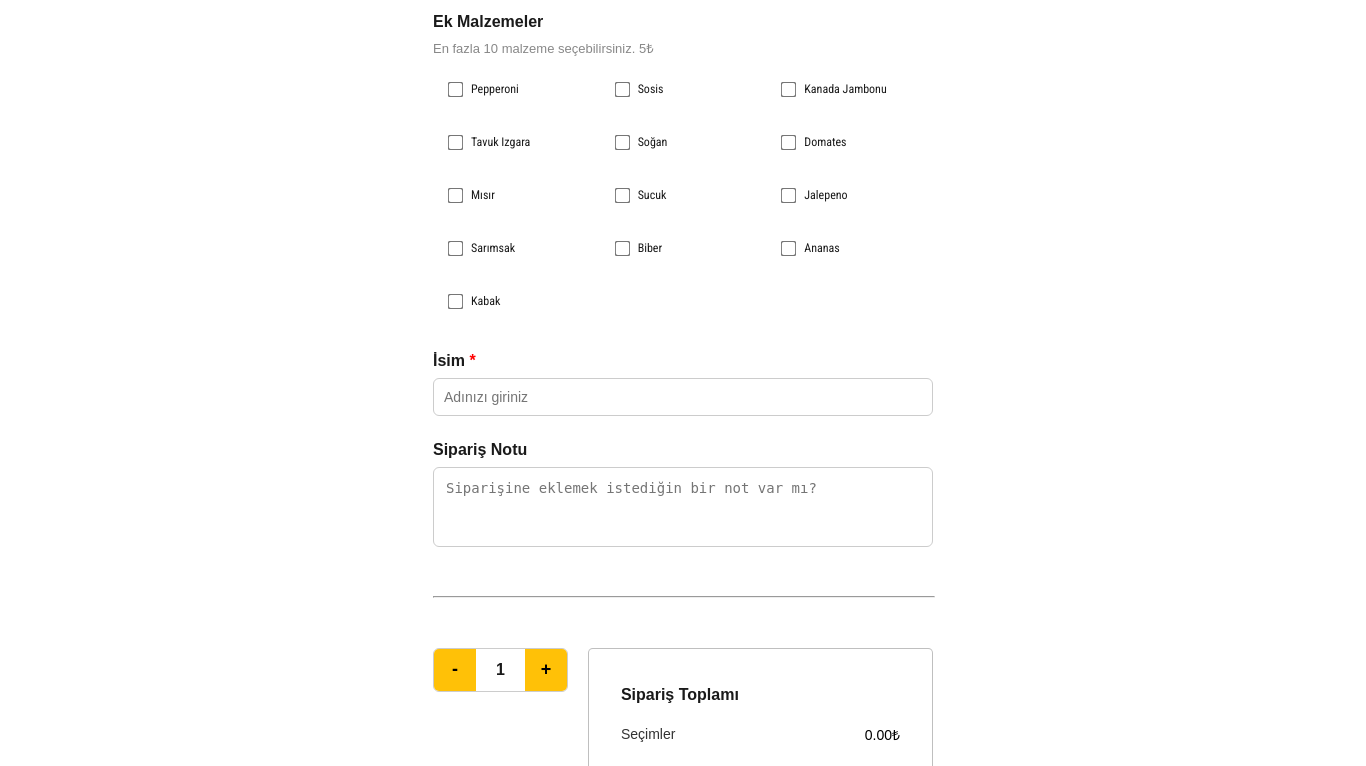
Form Validasyon Testleri › En az 4 malzeme seçilmezse hata verir
(page scrolled)
Type "Ali" into the element with test id "data-name". click: (683, 384)
box: [433, 352, 933, 416]
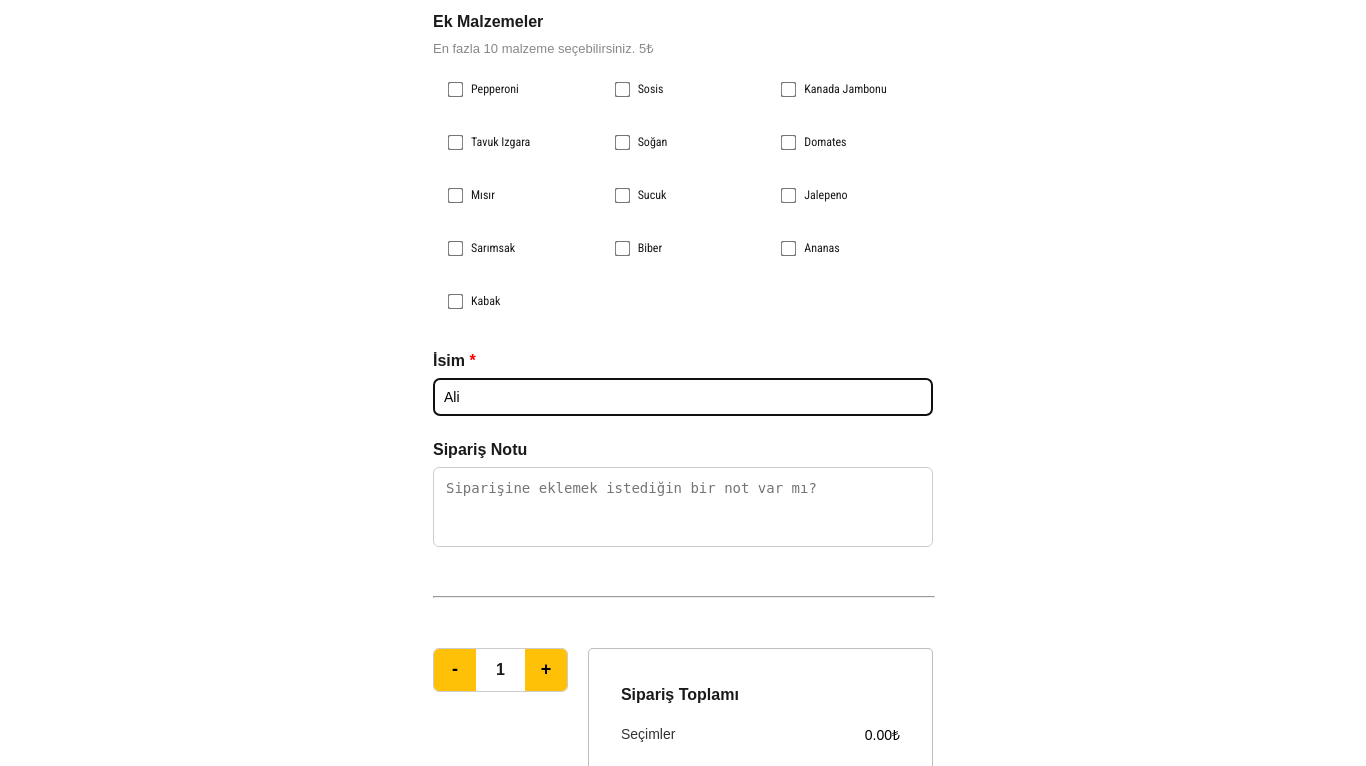
Scroll
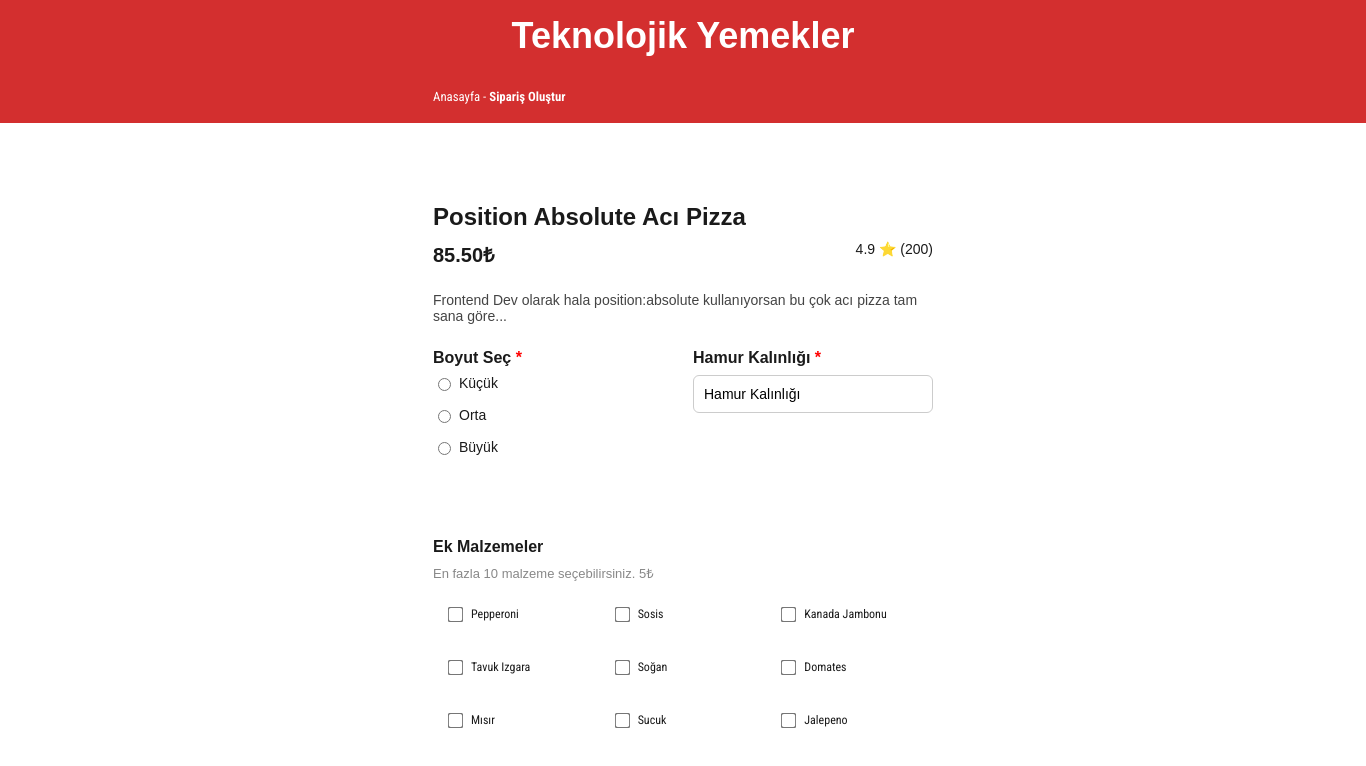
Check the radio button labelled "Küçük". click: (445, 385)
box: [438, 378, 451, 391]
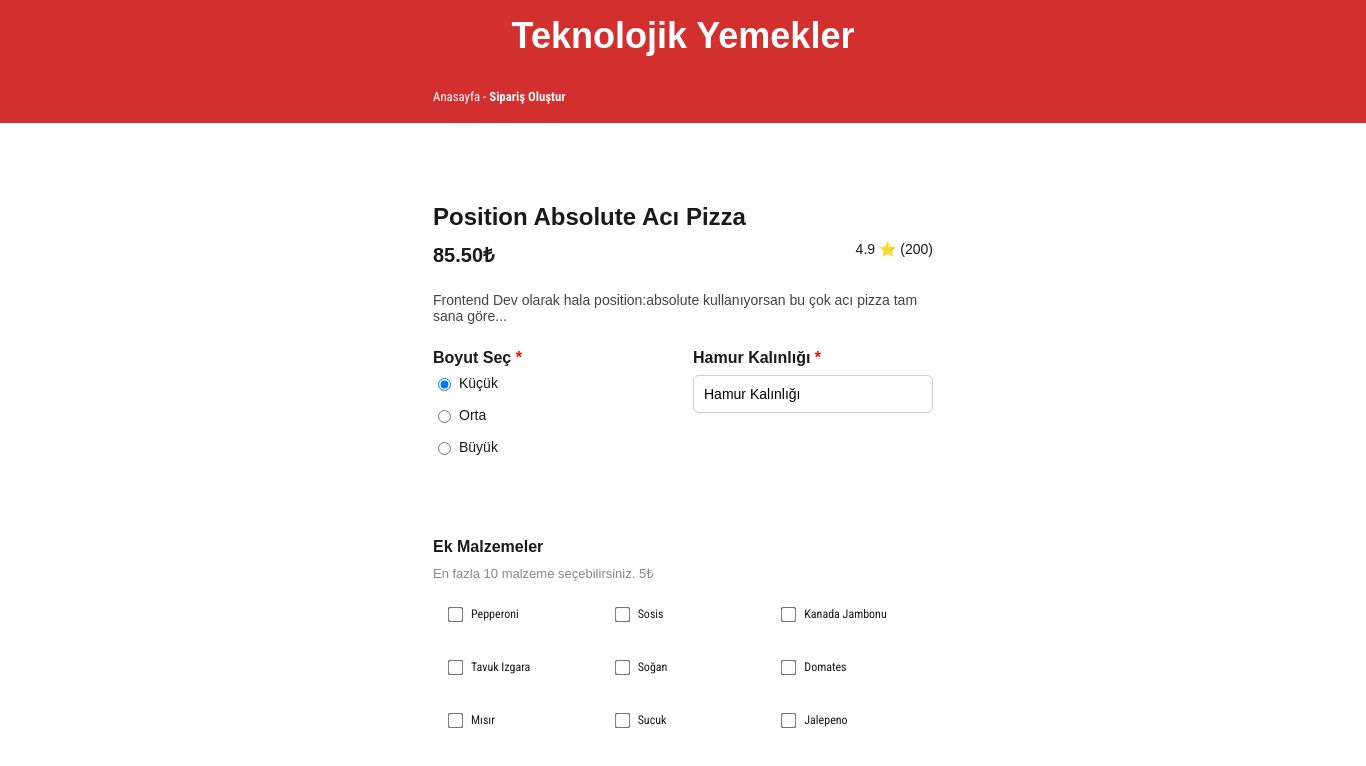
Select "Orta" in the dropdown. click: (813, 394)
box: [693, 375, 933, 413]
Click the text "Pepperoni". click: (512, 615)
box: [433, 597, 590, 632]
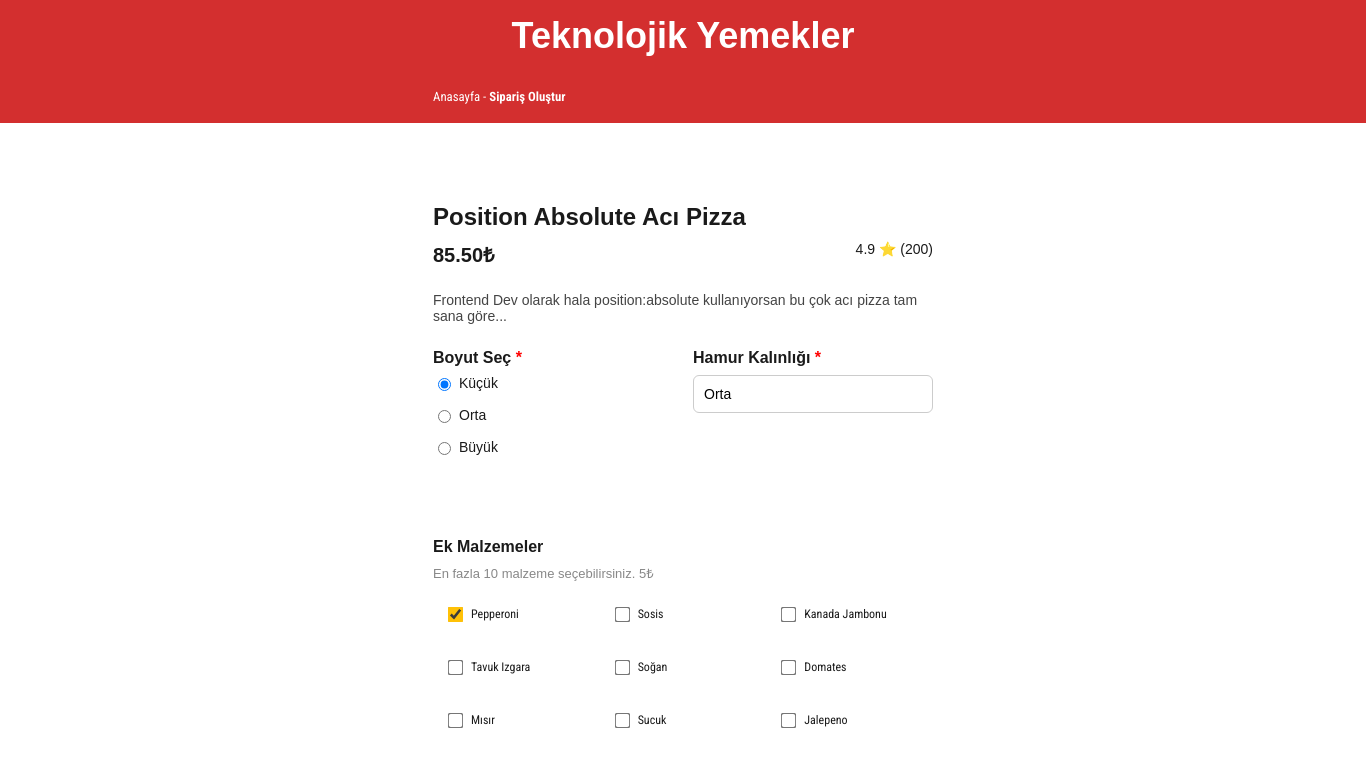
Scroll
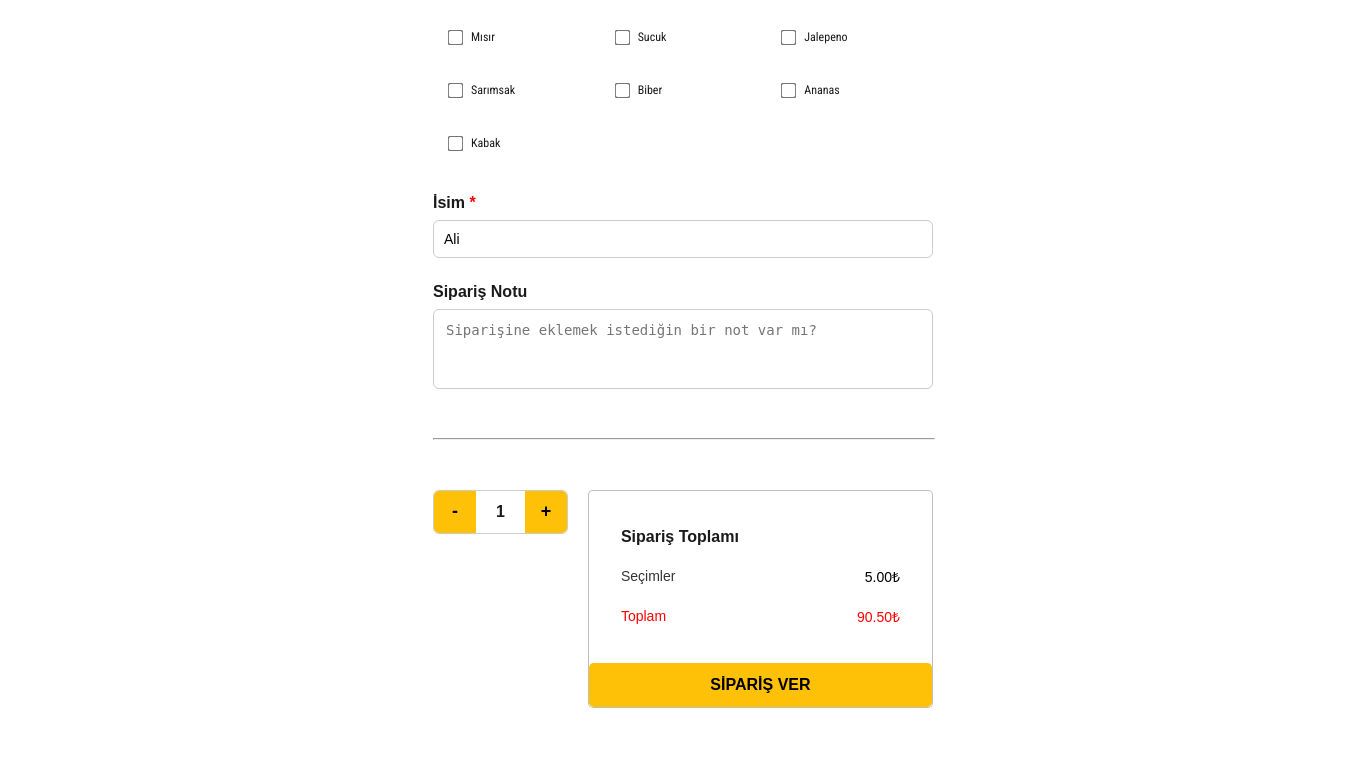
Click the button with test id "data-submit". click: (761, 685)
box: [589, 663, 932, 707]
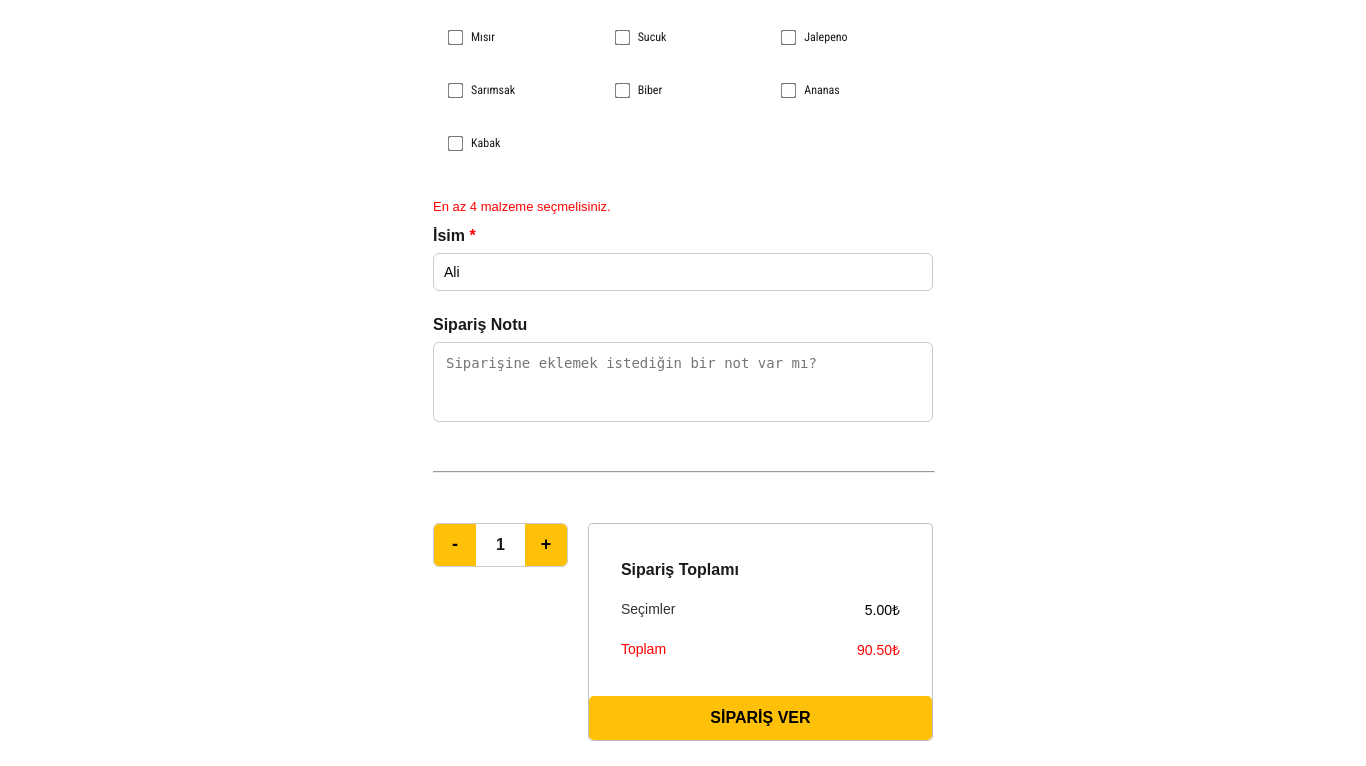
Now the text "En az 4 malzeme seçmelisiniz." is shown, box [433, 199, 611, 214]
